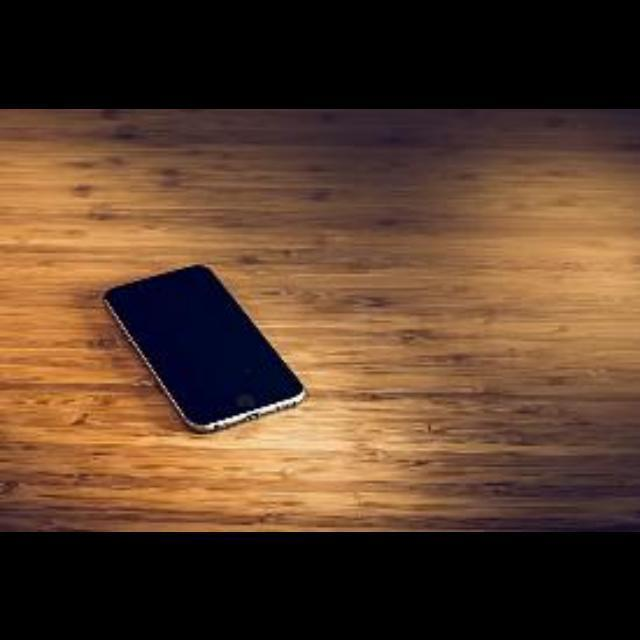phone: (101, 264, 303, 428)
